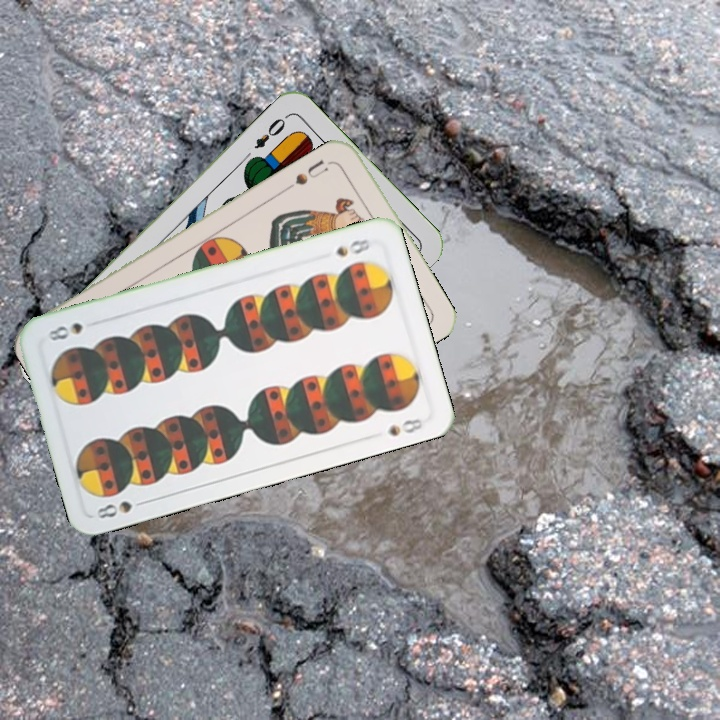EO: (250, 110, 291, 152)
S8: (92, 496, 151, 521), (331, 235, 374, 259)
SU: (291, 155, 331, 188)
